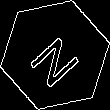N_NE: (24, 23, 86, 87)
